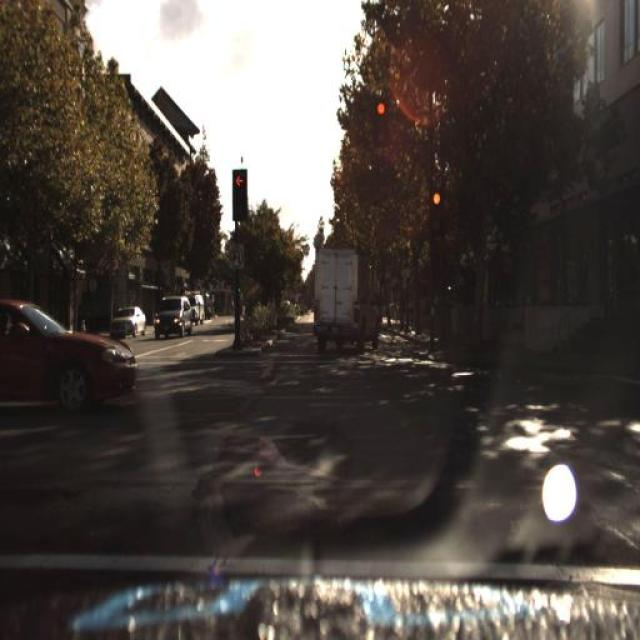car: (1, 287, 150, 428), (313, 230, 382, 360), (110, 299, 148, 340), (113, 302, 151, 339)
trafficLight-Green: (376, 100, 385, 139)
trafficLight-RedLeft: (431, 192, 442, 232)
trafficLight-Yellow: (234, 168, 248, 214)
